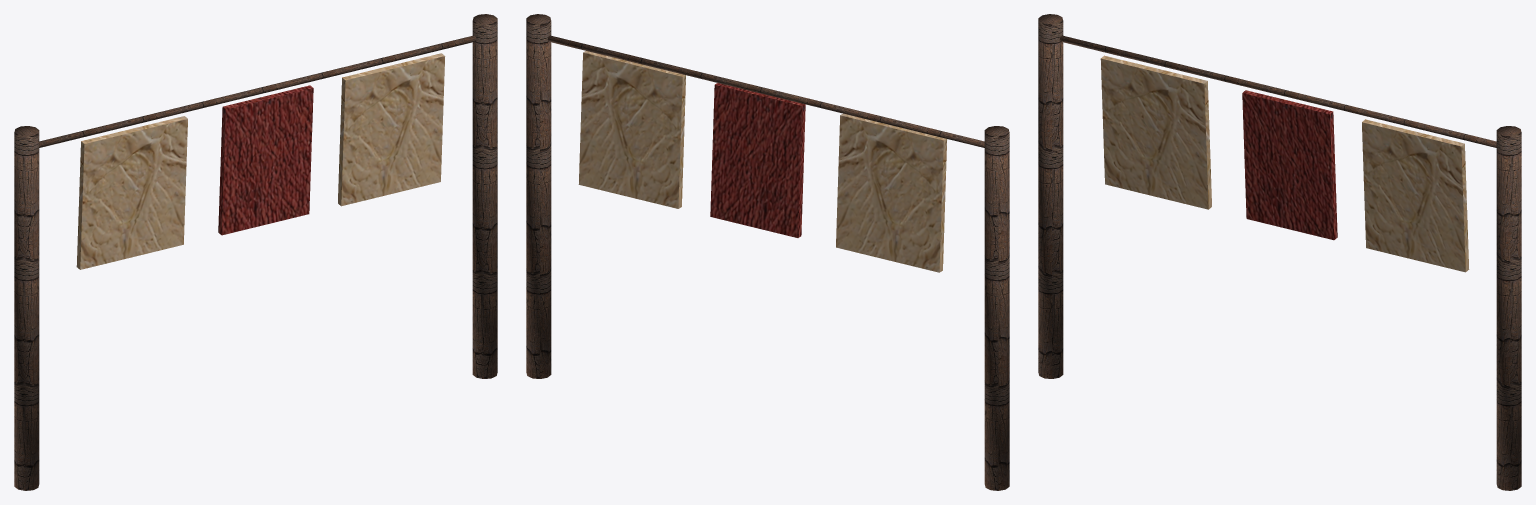
File: prop_yard_laundry.glb
The picture shows the model from 3 angles, left to right: view 1: azimuth 30°, elevation 25°; view 2: azimuth 150°, elevation 25°; view 3: azimuth 330°, elevation 25°; orthographic projection.
Parts seen in each view (by area): view 1: cloth_0, cloth_2, cloth_1, post, post.001, line; view 2: cloth_0, cloth_2, cloth_1, post, post.001, line; view 3: cloth_0, cloth_2, cloth_1, post.001, post, line.
Part boxes in pixels (<box>): cloth_0: <box>76,116,187,269</box>; cloth_2: <box>338,53,445,206</box>; cloth_1: <box>218,85,313,235</box>; post: <box>14,126,39,490</box>; post.001: <box>472,14,497,378</box>; line: <box>39,35,476,147</box>; cloth_0: <box>836,113,947,272</box>; cloth_2: <box>578,51,685,208</box>; cloth_1: <box>710,83,805,237</box>; post: <box>984,126,1009,490</box>; post.001: <box>526,14,551,378</box>; line: <box>547,35,984,147</box>; cloth_0: <box>1100,55,1211,209</box>; cloth_2: <box>1362,119,1469,272</box>; cloth_1: <box>1242,90,1337,240</box>; post.001: <box>1496,126,1521,490</box>; post: <box>1038,14,1063,378</box>; line: <box>1059,35,1496,147</box>.
Size of the model in its own units: 2.4 by 1.7 by 0.11.
Materials: 4 (4 with a texture image).
